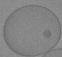small: (43, 30, 52, 38)
